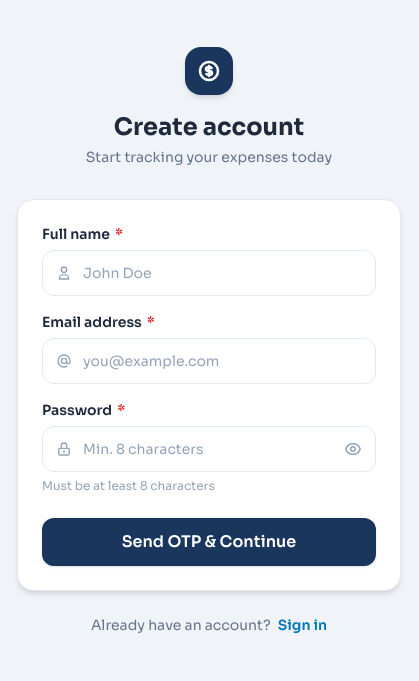
Test: RegisterView › shows generic fallback error when no response message
Type "Alice" into the field with placeholder "John Doe". click: (209, 273)
box: [42, 250, 376, 296]
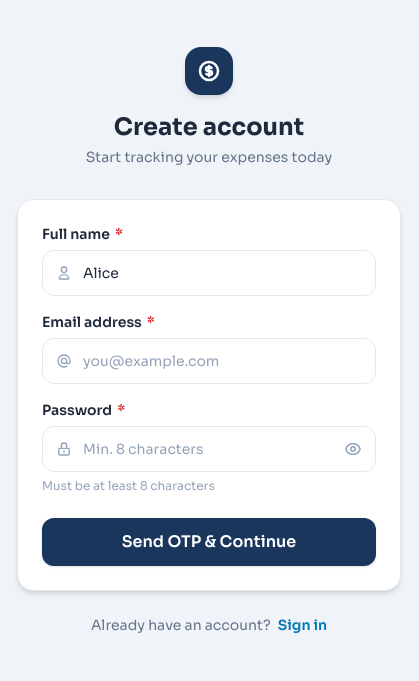
Type "alice@test.com" into the field with placeholder "you@example.com". click: (209, 361)
box: [42, 338, 376, 384]
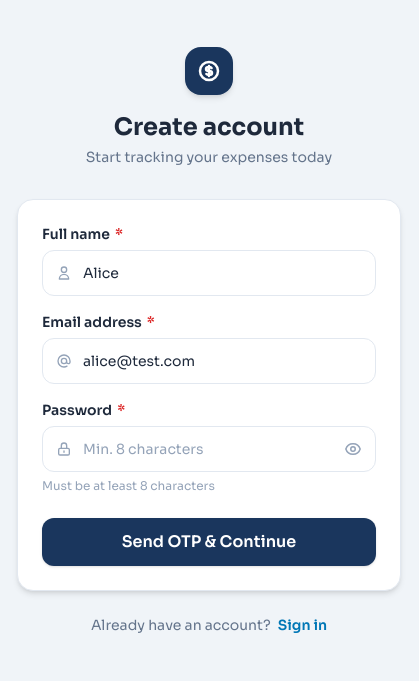
Type "longpassword" into the password field with placeholder "Min. 8 characters". click: (209, 449)
box: [42, 426, 376, 472]
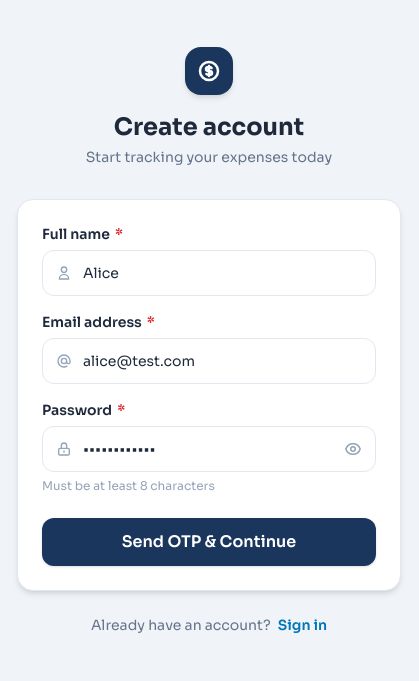
Submit the form, box [42, 224, 376, 566]
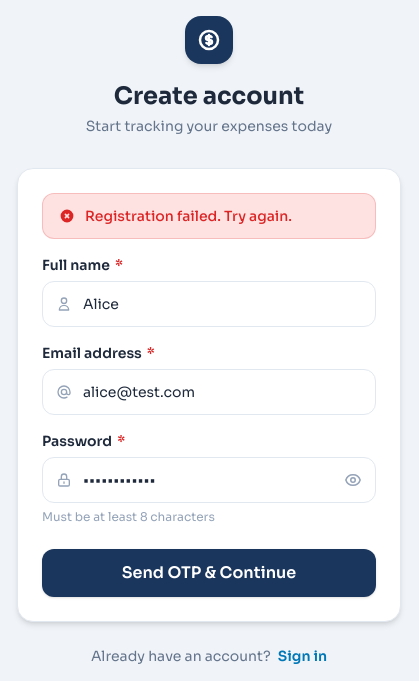
Now the text "Registration failed. Try again." is shown, box [85, 206, 292, 226]
